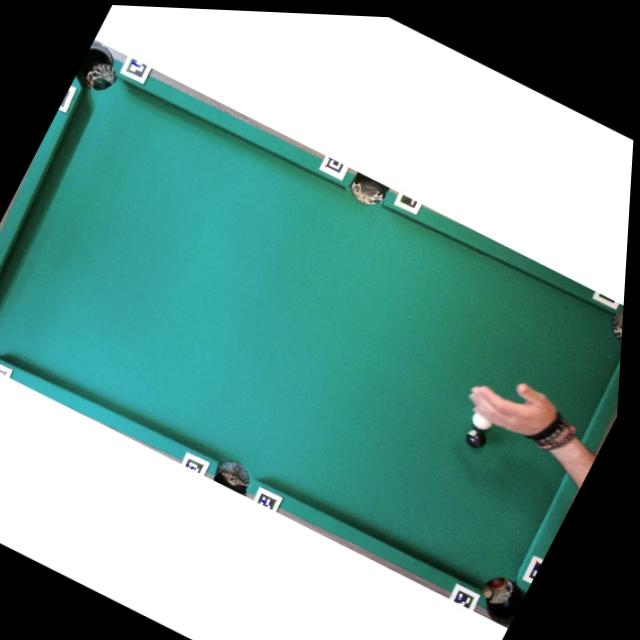cue ball: (468, 409, 496, 434)
other: (461, 424, 491, 452)
